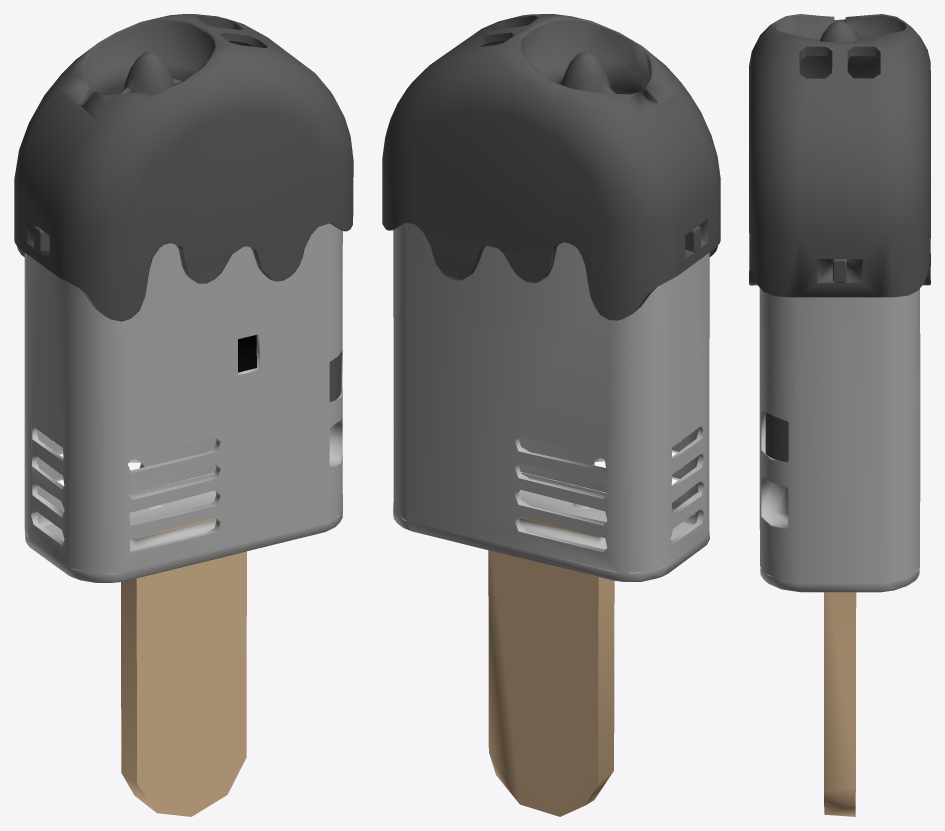
Rendered from Popsicle5G_dummy_decimated.glb.
3 renders of one model, left to right at view 1: azimuth 30°, elevation 25°; view 2: azimuth 150°, elevation 25°; view 3: azimuth 270°, elevation 25°, orthographic.
Visible parts, largest first — view 1: body, icing, stick, cover; view 2: body, icing, stick, cover; view 3: icing, body, stick, cover, button.
Boxes of the visible parts, box(x1,y1,x2,y2) form: body: box(24, 223, 342, 573); icing: box(14, 14, 353, 321); stick: box(121, 517, 246, 816); cover: box(24, 473, 342, 582); body: box(393, 223, 709, 573); icing: box(382, 14, 720, 320); stick: box(488, 516, 614, 816); cover: box(393, 472, 709, 581); icing: box(749, 14, 930, 297); body: box(759, 259, 920, 583); stick: box(824, 592, 856, 816); cover: box(760, 567, 919, 592); button: box(765, 412, 788, 461).
Bounding box in the file's own units: 91.98 × 232 × 48.98.
